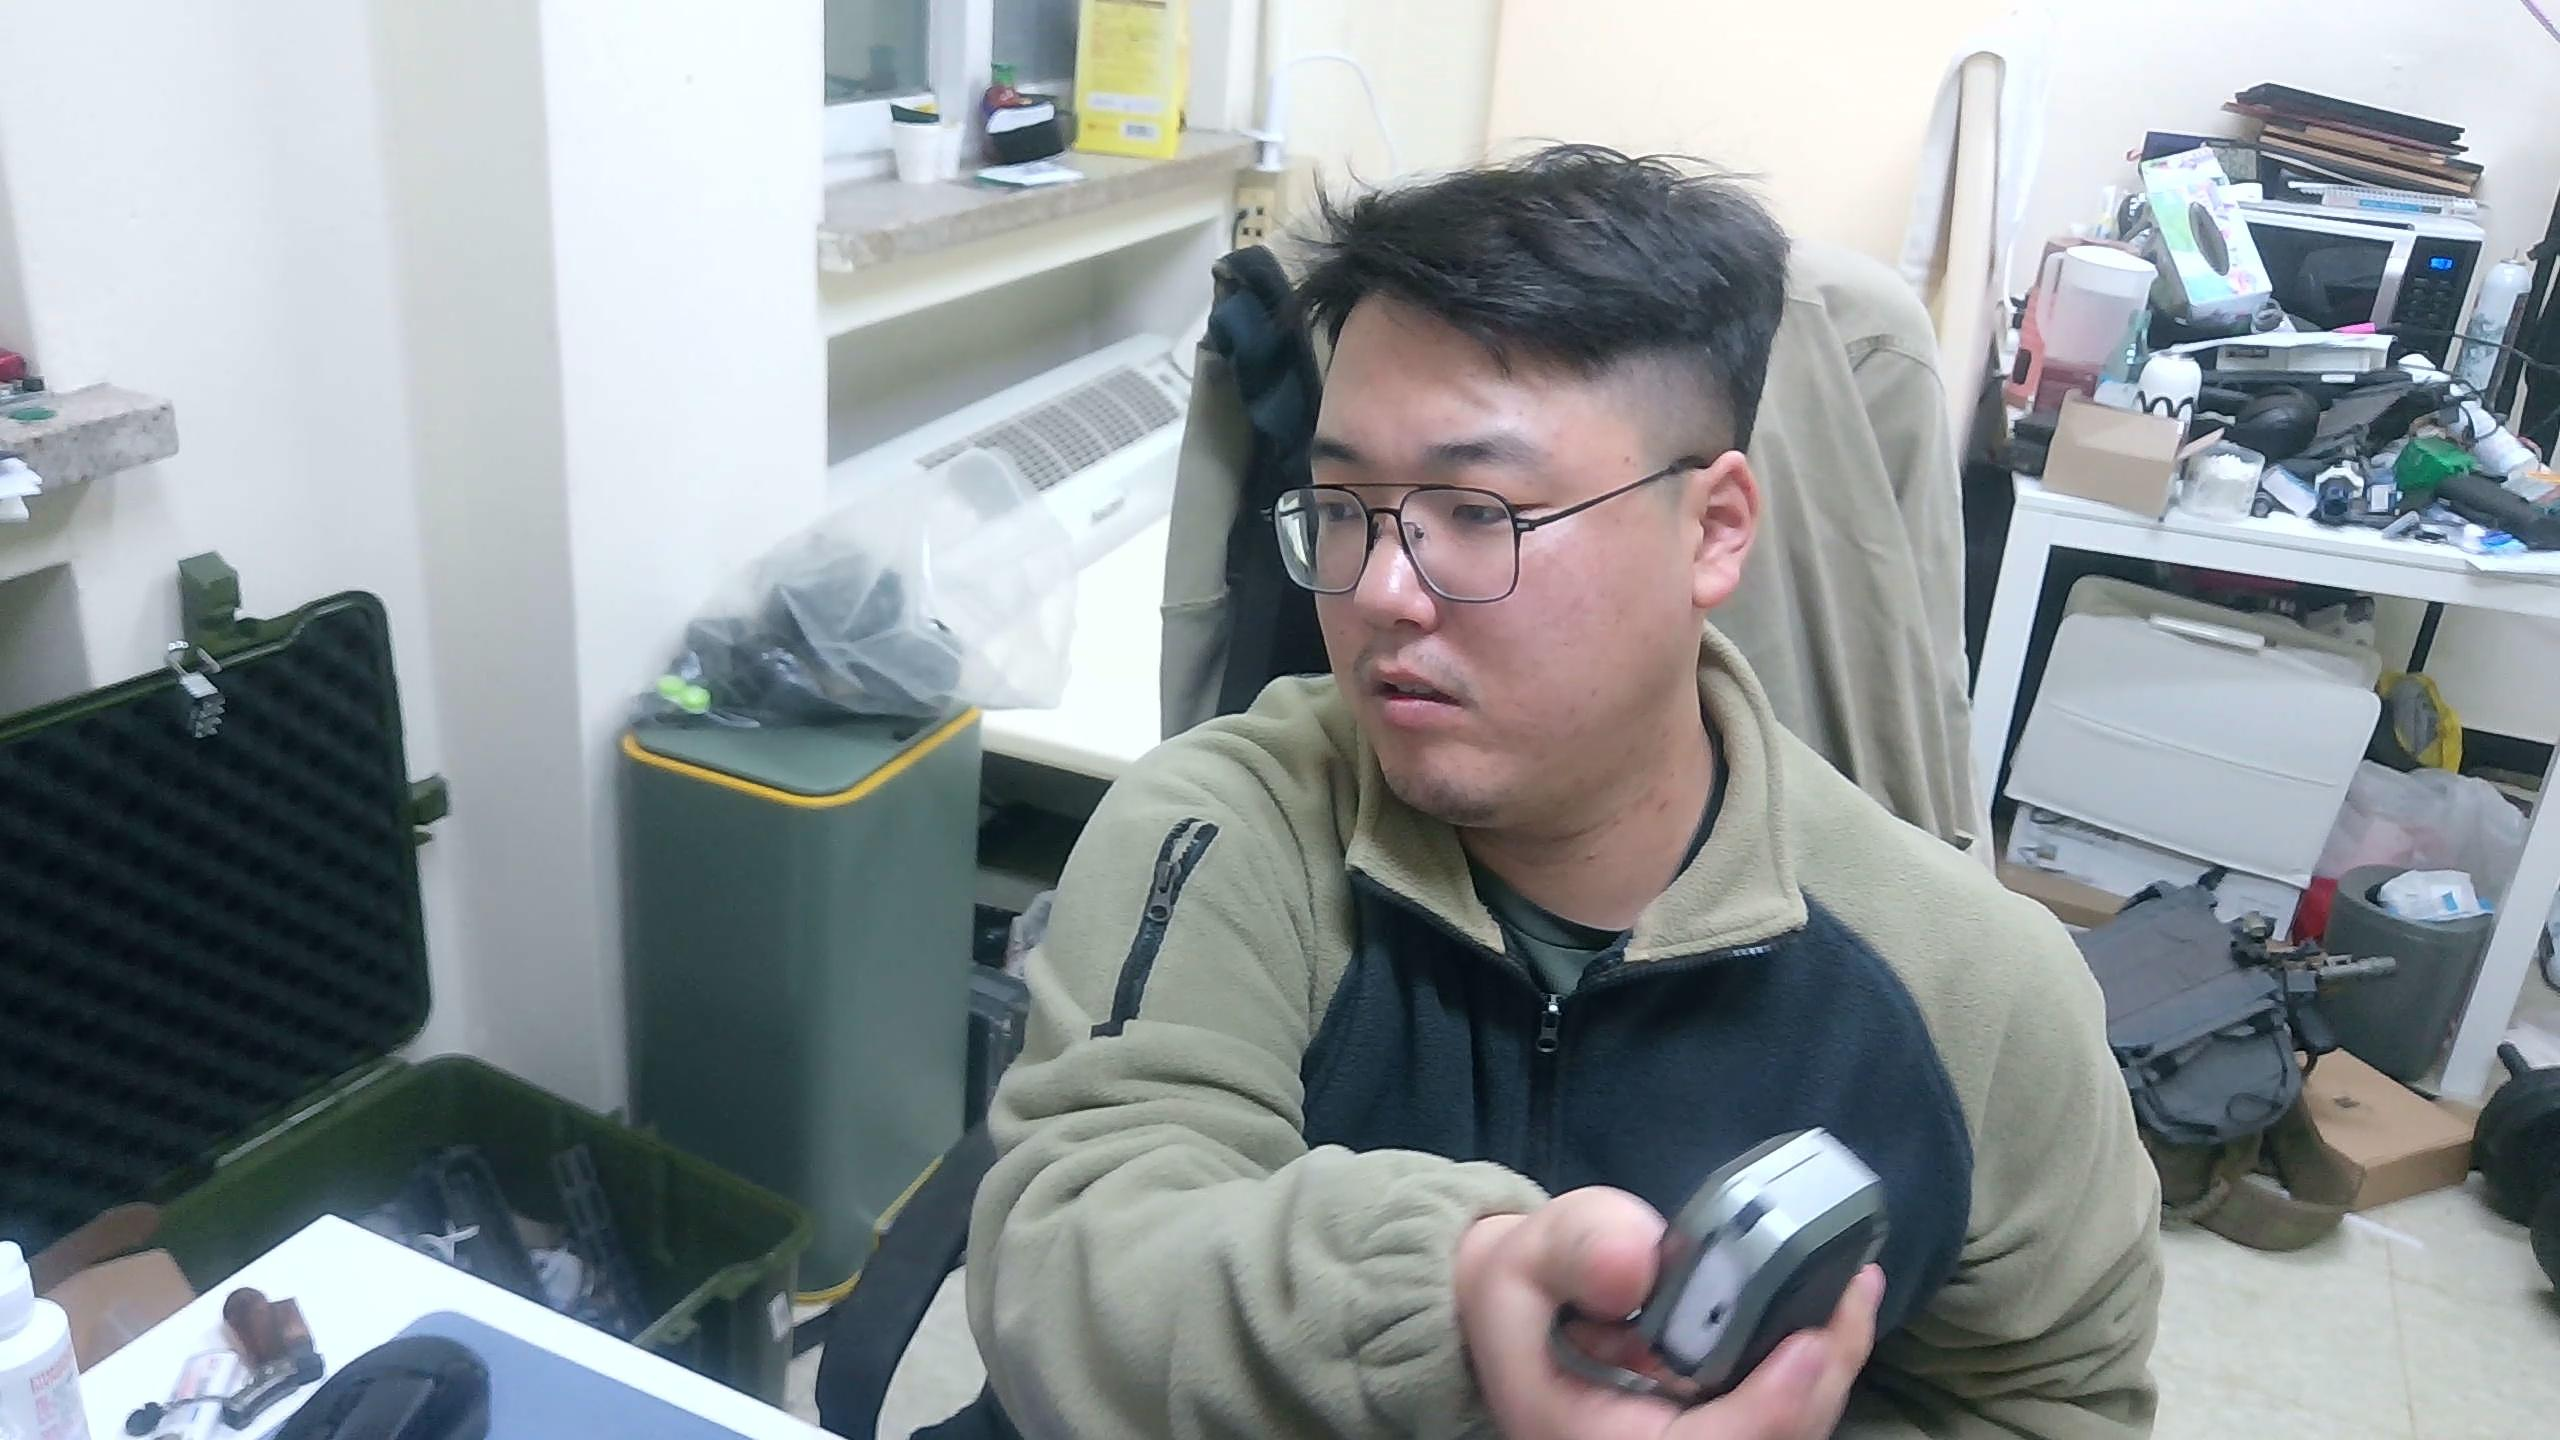blue_pliers: (1625, 1122, 1895, 1405)
